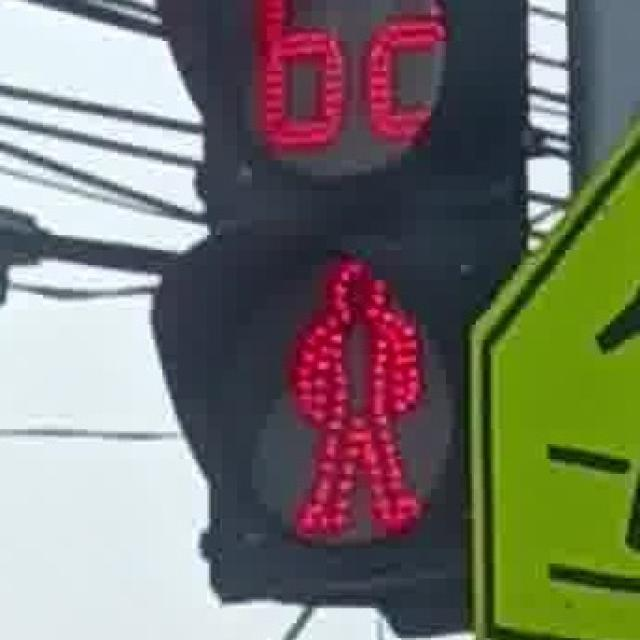red_light: (274, 246, 433, 547)
